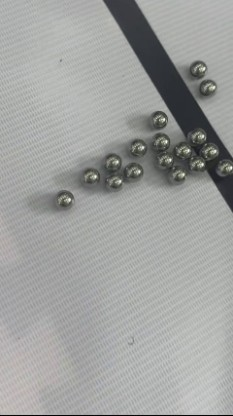ironball: (53, 185, 76, 211), (127, 137, 150, 161), (99, 150, 122, 174), (98, 172, 126, 191), (148, 108, 172, 130), (120, 162, 143, 184), (212, 154, 231, 180), (171, 139, 194, 160), (166, 165, 187, 188), (151, 129, 171, 151), (188, 57, 209, 77), (197, 77, 217, 98), (153, 151, 173, 171), (186, 126, 207, 145), (185, 155, 206, 172), (81, 166, 99, 184), (200, 141, 217, 159)
